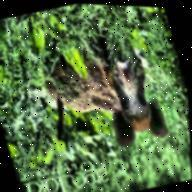boar: (19, 1, 191, 172)
